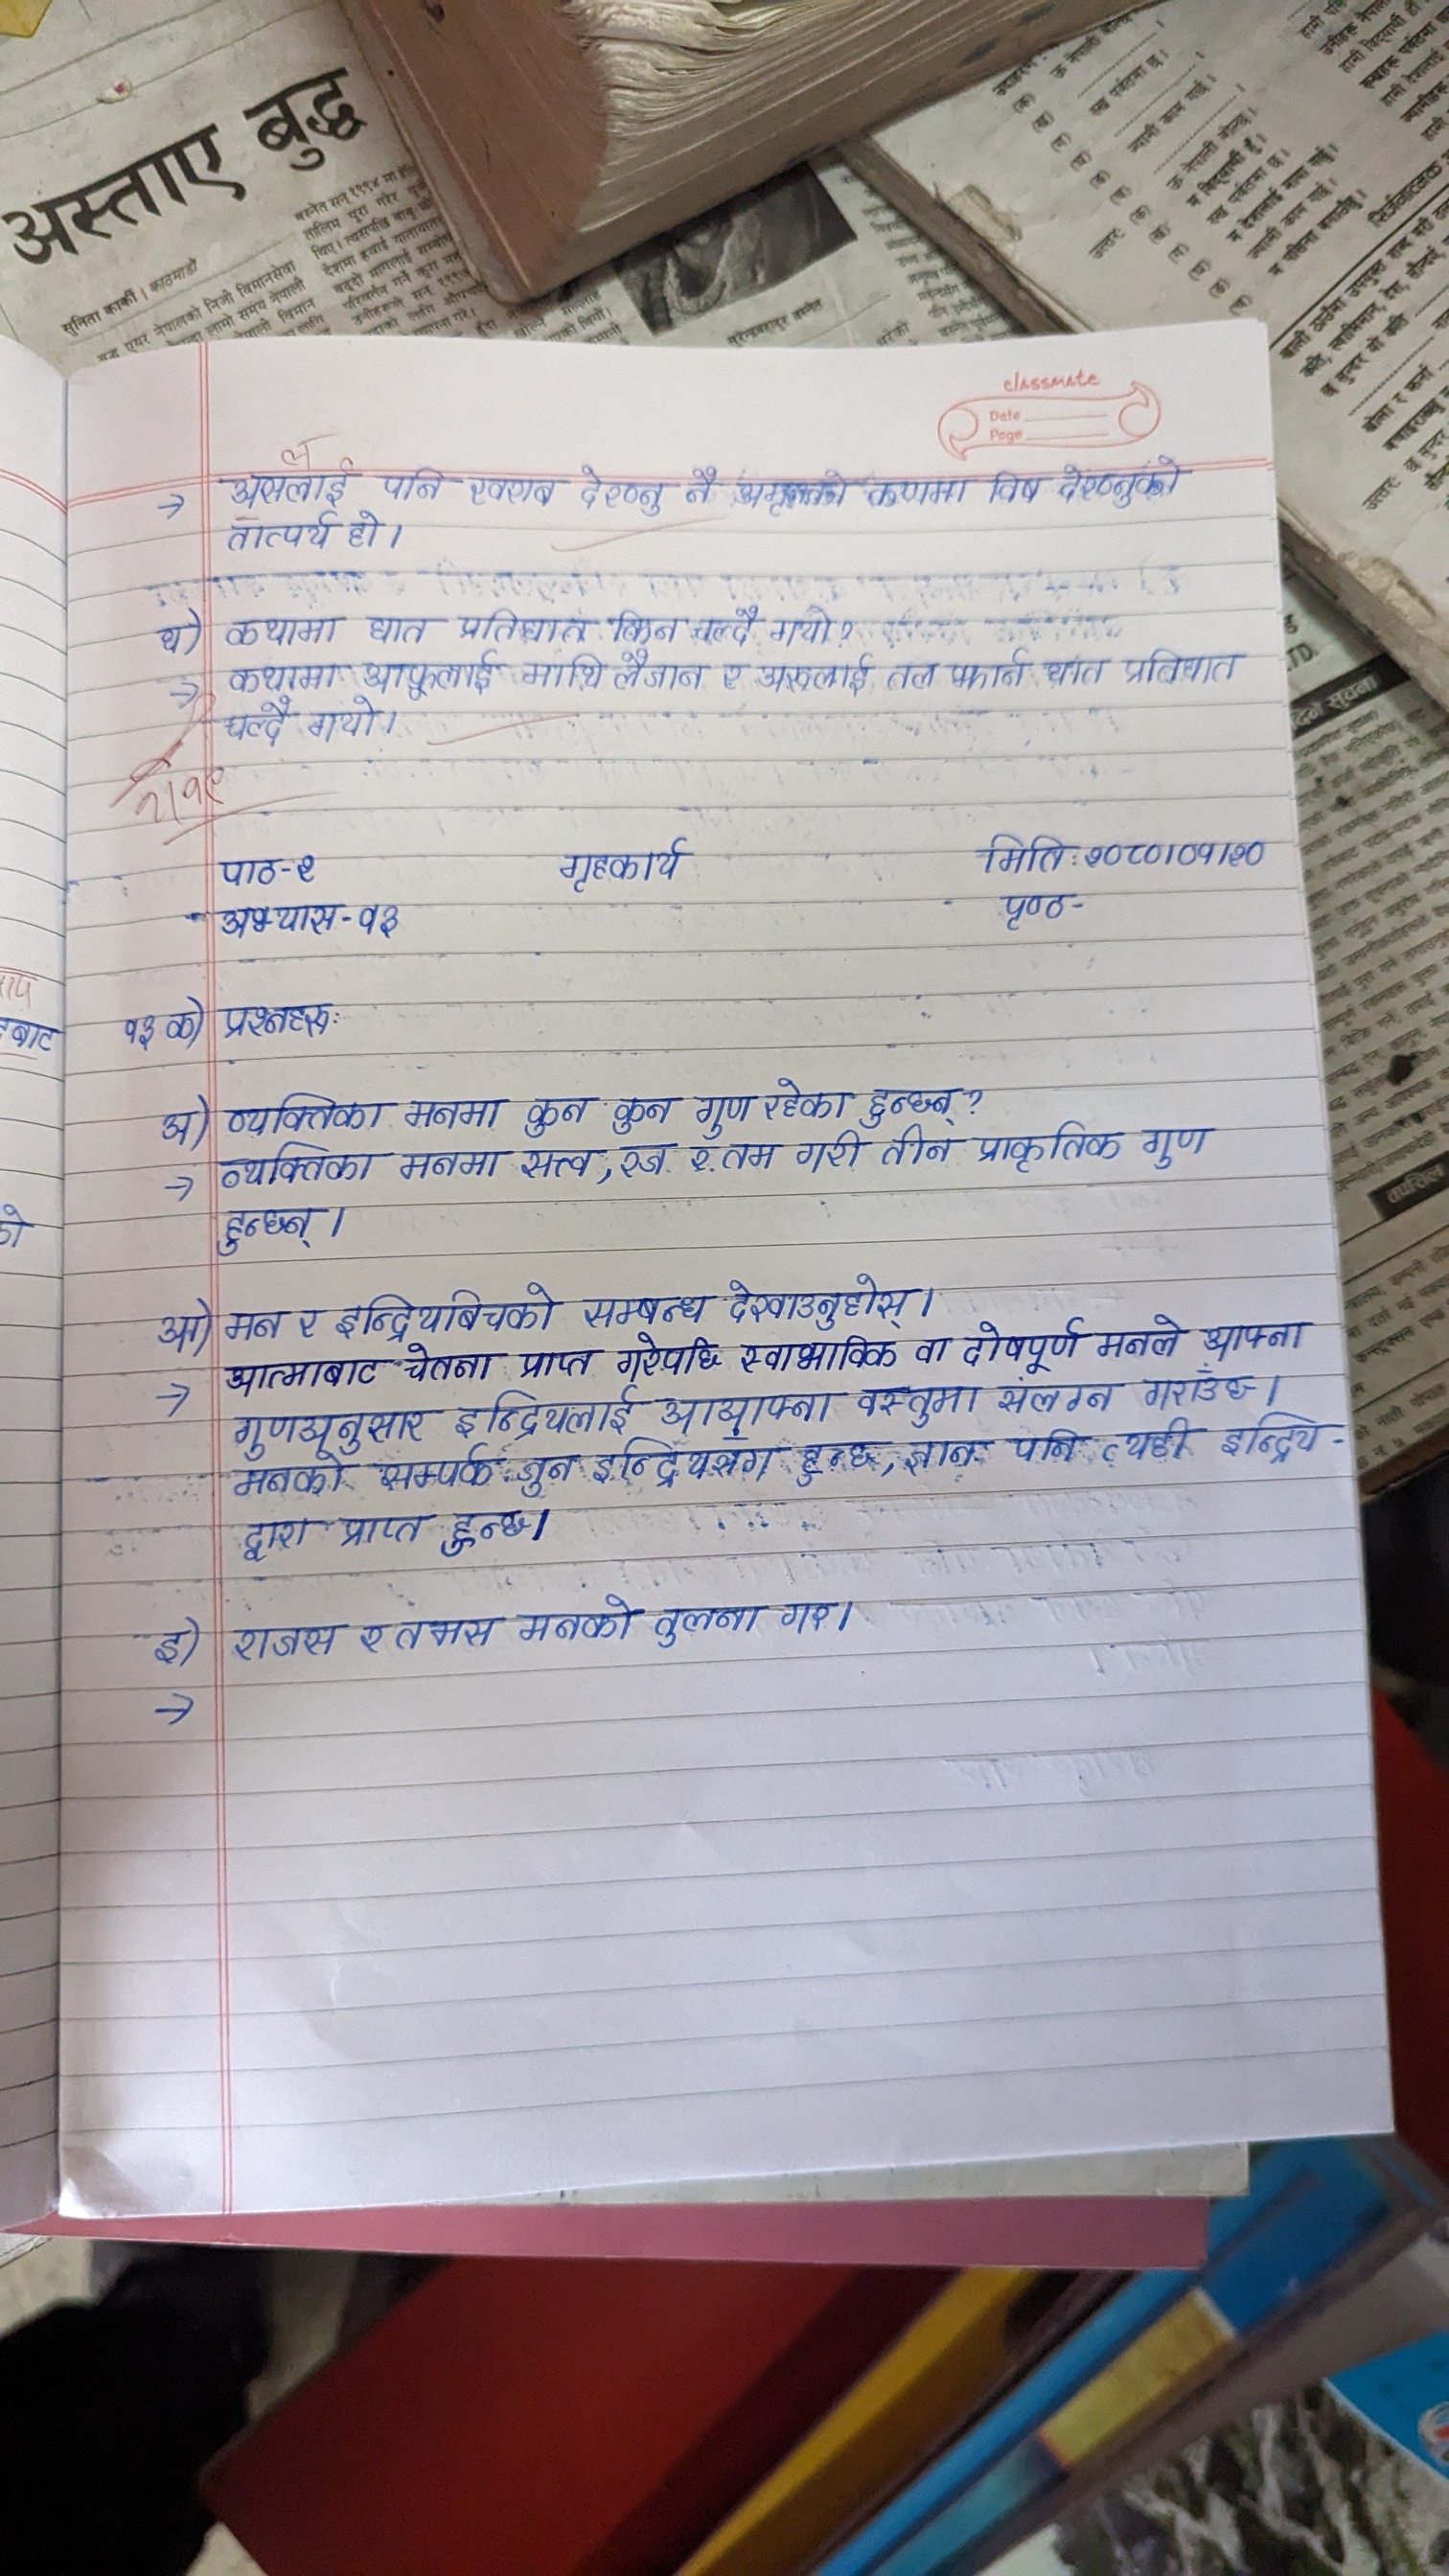text: (336, 1284, 563, 1339), (554, 832, 706, 899), (724, 1276, 915, 1327), (1058, 451, 1205, 511), (225, 1086, 386, 1141), (511, 1589, 639, 1656), (223, 1408, 439, 1447), (591, 1440, 777, 1483), (451, 1392, 642, 1433), (978, 1123, 1123, 1175), (1115, 642, 1247, 695), (212, 1145, 377, 1187), (658, 1391, 835, 1430), (734, 462, 849, 520), (228, 455, 359, 504), (962, 1316, 1085, 1369), (653, 1596, 763, 1652), (214, 1203, 329, 1256), (738, 1336, 901, 1373), (221, 1355, 387, 1391), (363, 653, 499, 695), (1223, 1408, 1323, 1465), (234, 1454, 352, 1502), (379, 1451, 504, 1495), (442, 1506, 538, 1562), (573, 1288, 709, 1327), (994, 1375, 1118, 1417), (455, 607, 589, 646), (234, 1615, 338, 1665), (570, 462, 663, 517), (761, 1070, 860, 1122), (214, 1003, 350, 1040), (612, 1334, 725, 1378), (867, 1077, 964, 1127), (398, 1610, 499, 1658), (1095, 1309, 1185, 1362), (396, 1143, 502, 1187), (1106, 1421, 1194, 1474), (761, 655, 876, 695), (225, 511, 338, 552), (856, 1385, 980, 1422), (1138, 1118, 1217, 1175), (796, 1437, 883, 1488), (1200, 1315, 1306, 1355), (1139, 1366, 1254, 1403), (234, 1518, 317, 1569), (221, 614, 341, 649), (869, 471, 971, 511), (904, 1431, 987, 1481), (214, 902, 343, 934), (396, 1341, 494, 1382), (616, 651, 704, 695), (770, 1589, 840, 1642), (225, 662, 349, 692), (1001, 883, 1079, 931), (980, 835, 1070, 876), (301, 699, 377, 747), (402, 1097, 508, 1131), (218, 697, 290, 743), (338, 1514, 432, 1550), (793, 1127, 862, 1175), (469, 471, 556, 508), (947, 648, 1024, 688), (883, 1129, 959, 1169), (768, 602, 837, 646), (520, 1148, 596, 1187), (513, 1447, 577, 1493), (688, 603, 754, 648), (1083, 837, 1162, 872), (515, 1346, 596, 1380), (1012, 1428, 1079, 1468), (520, 1095, 593, 1132), (363, 607, 432, 646), (524, 655, 603, 688), (612, 1090, 676, 1131), (152, 1306, 203, 1355), (382, 464, 446, 502), (694, 1090, 752, 1131), (724, 1139, 782, 1178), (225, 1306, 285, 1343), (1040, 655, 1106, 688), (991, 465, 1040, 506), (150, 1621, 189, 1672), (216, 856, 278, 888), (616, 1143, 669, 1180), (609, 610, 678, 639), (1171, 828, 1217, 870), (117, 1005, 156, 1054), (166, 998, 203, 1047), (357, 899, 398, 943), (886, 655, 934, 692), (156, 1102, 196, 1145), (1224, 832, 1270, 869), (292, 846, 329, 888), (359, 1608, 386, 1661), (713, 660, 750, 697), (681, 465, 715, 504), (347, 510, 379, 550), (916, 1336, 952, 1371), (686, 1143, 718, 1182), (154, 625, 191, 655), (294, 1299, 320, 1339)
